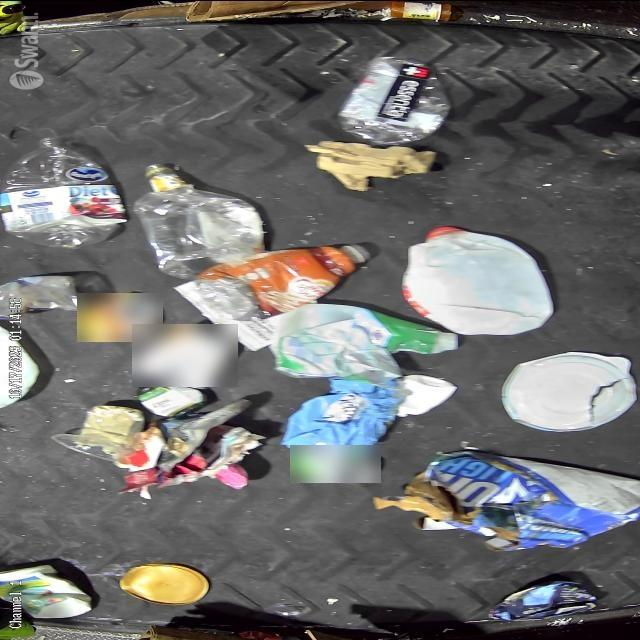milk_jug: (402, 225, 555, 334)
plastic_bottle: (5, 136, 126, 248)
